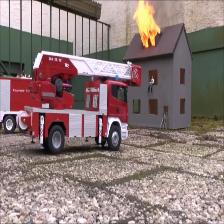fire: (132, 0, 161, 47)
